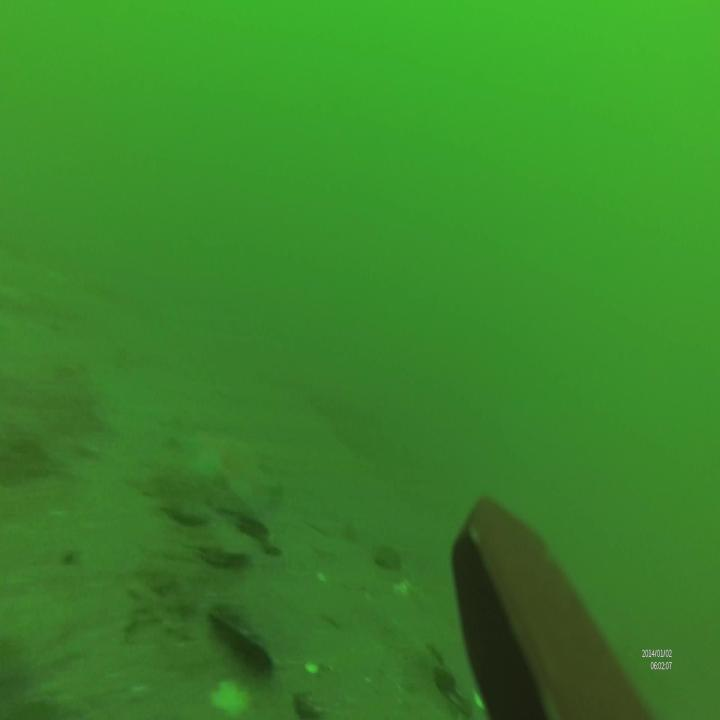echinus: (434, 666, 461, 696)
scallop: (162, 493, 214, 531), (199, 536, 250, 573), (213, 680, 251, 718)
